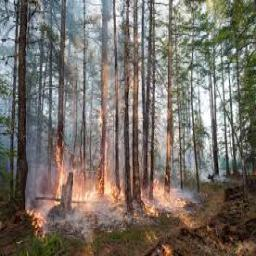Low smoke: (43, 3, 196, 227)
Small fire: (24, 181, 190, 215)
